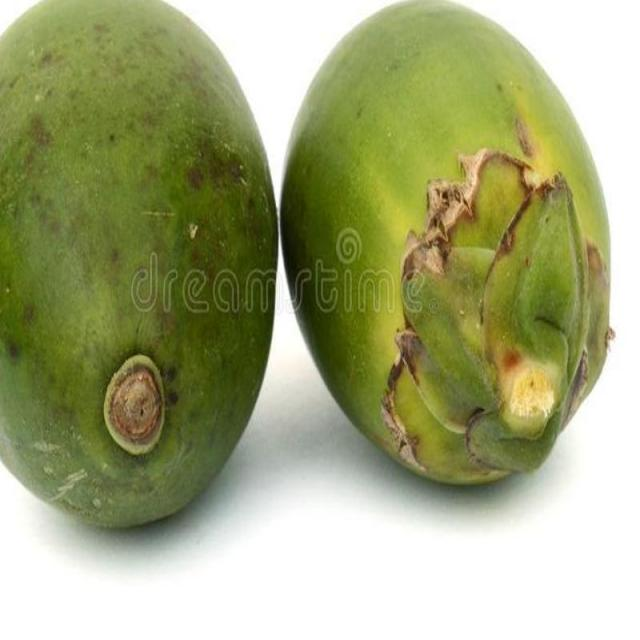good: (280, 0, 616, 488), (0, 0, 278, 533)
